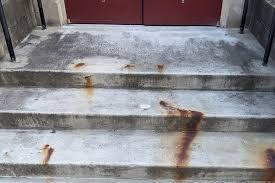Corrosion: (159, 100, 204, 183), (258, 145, 275, 183), (41, 144, 55, 164), (84, 74, 93, 96), (74, 62, 85, 69), (123, 64, 135, 70), (157, 63, 164, 72)
